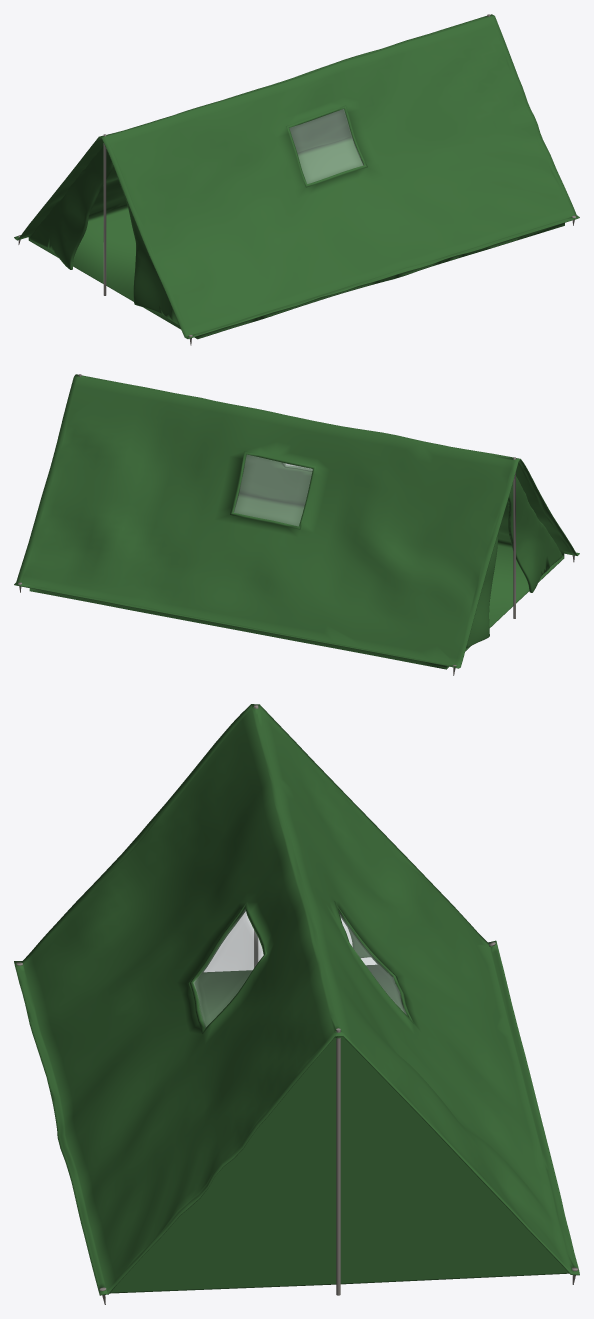
Rendered from camping-tent.glb.
3 renders of one model, top to bottom at view 1: azimuth 30°, elevation 25°; view 2: azimuth 150°, elevation 25°; view 3: azimuth 270°, elevation 25°, orthographic. The views are drawn at different scales.
Visible parts, largest first — view 1: Tent, Tent Door Left, Tent Windows, Pin; view 2: Tent, Tent Door Left, Tent Windows, Pin; view 3: Tent, Tent Windows, Pin.
Boxes of the visible parts, x1=… form: Tent: x1=14, y1=14, x2=579, y2=339; Tent Door Left: x1=30, y1=145, x2=179, y2=324; Tent Windows: x1=289, y1=109, x2=363, y2=183; Pin: x1=18, y1=14, x2=575, y2=345; Tent: x1=14, y1=374, x2=579, y2=669; Tent Door Left: x1=447, y1=476, x2=561, y2=666; Tent Windows: x1=234, y1=455, x2=312, y2=526; Pin: x1=18, y1=374, x2=574, y2=675; Tent: x1=14, y1=704, x2=579, y2=1295; Tent Windows: x1=193, y1=909, x2=406, y2=1027; Pin: x1=16, y1=705, x2=578, y2=1304.
Bounding box in the file's own units: 3.11 × 1.09 × 2.1.
